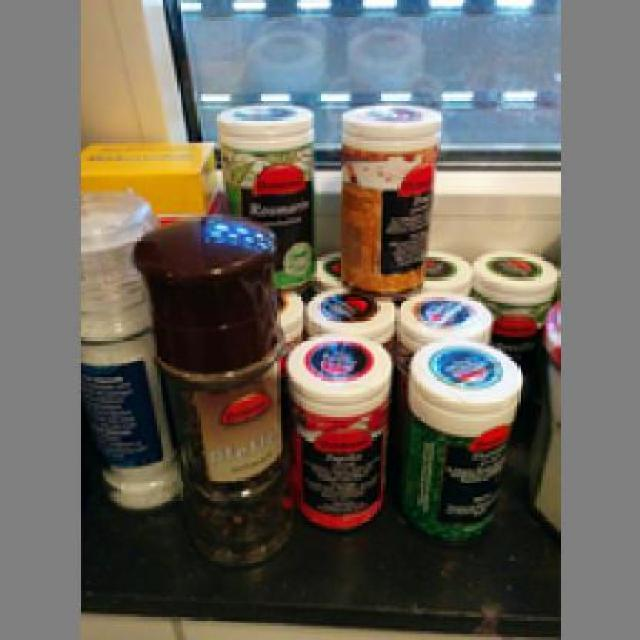Spices: (132, 211, 288, 580), (77, 188, 177, 508), (400, 334, 520, 537), (286, 326, 386, 528), (334, 97, 426, 294), (213, 100, 310, 286)
